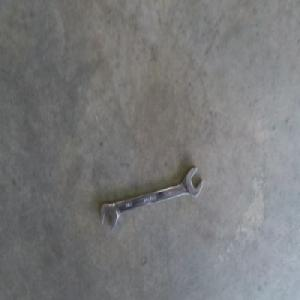Wrench: (100, 167, 202, 231)
